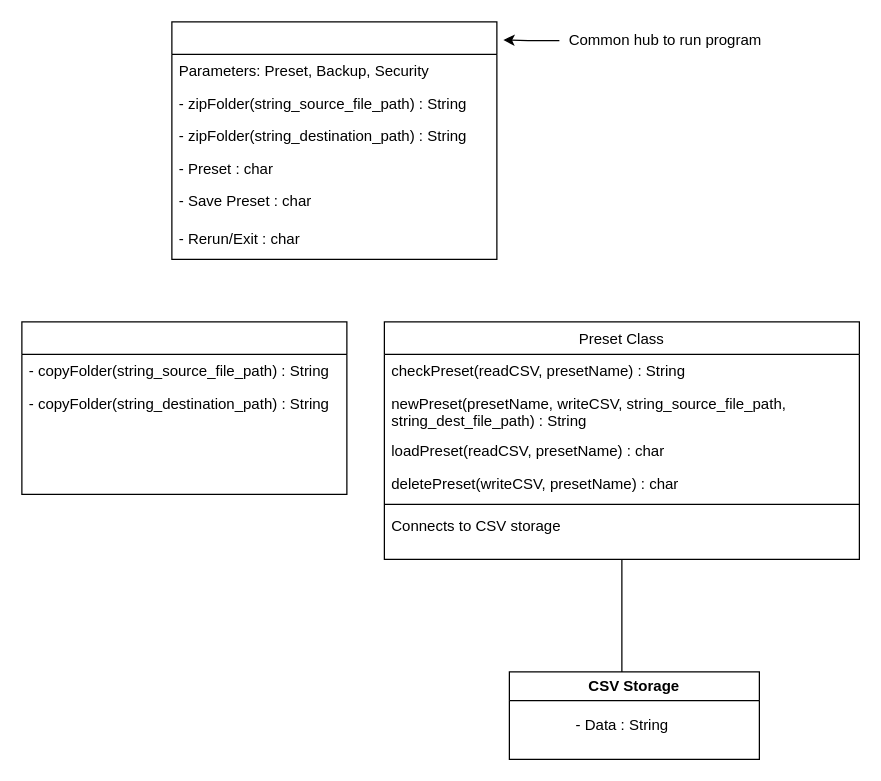
Some shapes in this 881 by 781 pixel diagram are drawn without their labels. Each missing label, with the box of its shape:
Backup Class: (21, 321, 347, 494)
Main Class: (171, 21, 497, 259)
